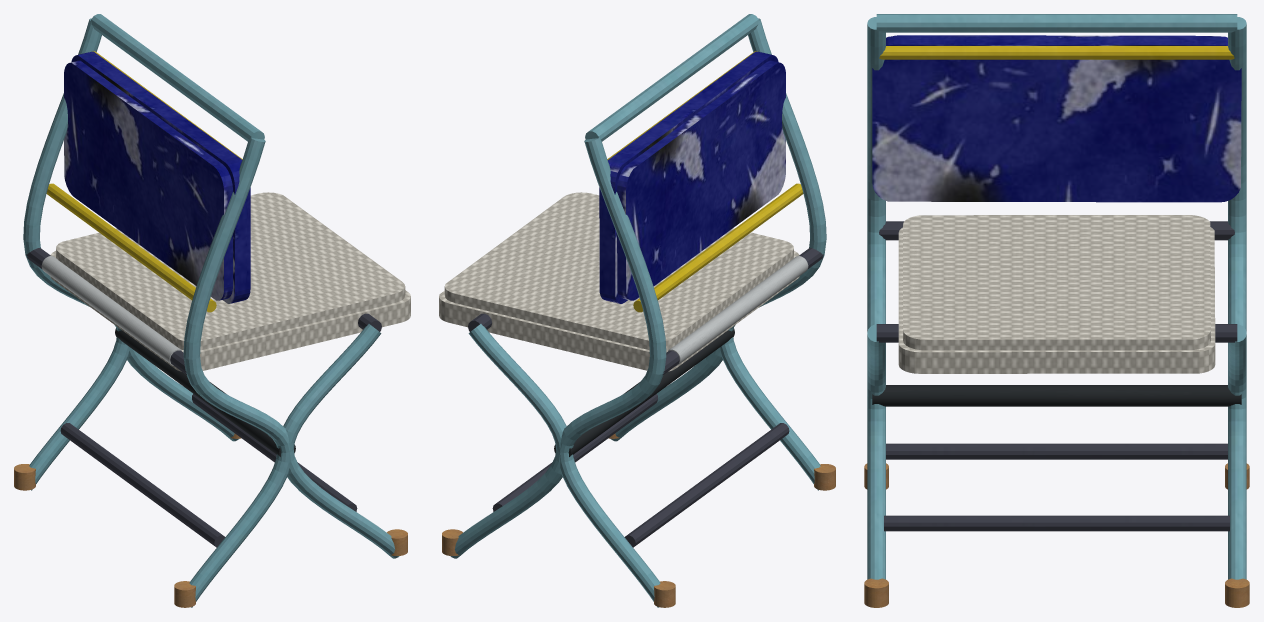
Rendered from Chair_Folding_chair__0000.glb.
3 renders of one model, left to right at view 1: azimuth 30°, elevation 25°; view 2: azimuth 150°, elevation 25°; view 3: azimuth 270°, elevation 25°, orthographic. The views are drawn at different scales.
Parts seen in each view (by area): view 1: seat_pan::seat_pad, rear_leg_frame::backrest_pad, rear_leg_frame::rear_upright_l, rear_leg_frame::rear_upright_r, front_leg_frame::front_leg_l, rear_leg_frame::back_rail_top, seat_pan::seat_hinge_dowel, rear_leg_frame::rear_cross_brace, rear_leg_frame::back_mount_lower, front_leg_frame::front_leg_r, rear_leg_frame::scissor_bolt, front_leg_frame::front_cross_brace (+3 smaller); view 2: seat_pan::seat_pad, rear_leg_frame::backrest_pad, rear_leg_frame::rear_upright_r, rear_leg_frame::rear_upright_l, front_leg_frame::front_leg_r, rear_leg_frame::back_rail_top, seat_pan::seat_hinge_dowel, rear_leg_frame::rear_cross_brace, rear_leg_frame::back_mount_lower, front_leg_frame::front_leg_l, rear_leg_frame::scissor_bolt, front_leg_frame::front_cross_brace (+3 smaller); view 3: rear_leg_frame::backrest_pad, seat_pan::seat_pad, rear_leg_frame::scissor_bolt, rear_leg_frame::back_rail_top, front_leg_frame::front_cross_brace, rear_leg_frame::rear_cross_brace, rear_leg_frame::back_mount_upper, front_leg_frame::front_leg_l, front_leg_frame::front_leg_r, rear_leg_frame::rear_upright_l, rear_leg_frame::rear_upright_r, front_leg_frame::seat_front_rail (+3 smaller).
Boxes of the visible parts, <box> form: seat_pan::seat_pad: <box>50,192,410,371</box>; rear_leg_frame::backrest_pad: <box>64,51,250,303</box>; rear_leg_frame::rear_upright_l: <box>183,137,289,607</box>; rear_leg_frame::rear_upright_r: <box>23,18,129,490</box>; front_leg_frame::front_leg_l: <box>283,324,399,558</box>; rear_leg_frame::back_rail_top: <box>91,14,264,141</box>; seat_pan::seat_hinge_dowel: <box>41,256,181,365</box>; rear_leg_frame::rear_cross_brace: <box>60,423,225,547</box>; rear_leg_frame::back_mount_lower: <box>46,183,216,312</box>; front_leg_frame::front_leg_r: <box>127,347,239,441</box>; rear_leg_frame::scissor_bolt: <box>115,328,295,456</box>; front_leg_frame::front_cross_brace: <box>192,394,357,511</box>; seat_pan::seat_pad: <box>439,192,799,371</box>; rear_leg_frame::backrest_pad: <box>599,51,785,303</box>; rear_leg_frame::rear_upright_r: <box>560,137,666,607</box>; rear_leg_frame::rear_upright_l: <box>720,18,826,490</box>; front_leg_frame::front_leg_r: <box>450,324,566,558</box>; rear_leg_frame::back_rail_top: <box>585,14,758,141</box>; seat_pan::seat_hinge_dowel: <box>668,256,808,365</box>; rear_leg_frame::rear_cross_brace: <box>624,423,789,547</box>; rear_leg_frame::back_mount_lower: <box>633,183,803,312</box>; front_leg_frame::front_leg_l: <box>610,347,722,441</box>; rear_leg_frame::scissor_bolt: <box>554,328,734,456</box>; front_leg_frame::front_cross_brace: <box>492,394,657,511</box>; rear_leg_frame::backrest_pad: <box>872,35,1241,202</box>; seat_pan::seat_pad: <box>898,215,1215,373</box>; rear_leg_frame::scissor_bolt: <box>872,385,1241,406</box>; rear_leg_frame::back_rail_top: <box>876,14,1237,32</box>; front_leg_frame::front_cross_brace: <box>884,515,1229,531</box>; rear_leg_frame::rear_cross_brace: <box>886,443,1227,459</box>; rear_leg_frame::back_mount_upper: <box>879,46,1234,59</box>; front_leg_frame::front_leg_l: <box>867,324,885,579</box>; front_leg_frame::front_leg_r: <box>1228,324,1246,579</box>; rear_leg_frame::rear_upright_l: <box>867,17,885,331</box>; rear_leg_frame::rear_upright_r: <box>1228,17,1246,331</box>; front_leg_frame::seat_front_rail: <box>876,324,1237,342</box>.
Size of the model in its own units: 0.452 by 0.787 by 0.5314.
8 materials, 8 textured.
